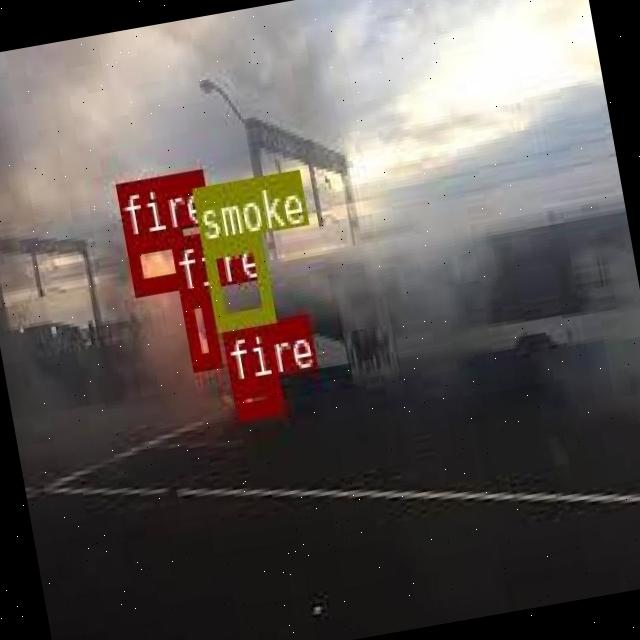fire: (122, 228, 190, 292), (177, 286, 219, 368), (230, 375, 282, 418)
smoke: (200, 232, 272, 326)
